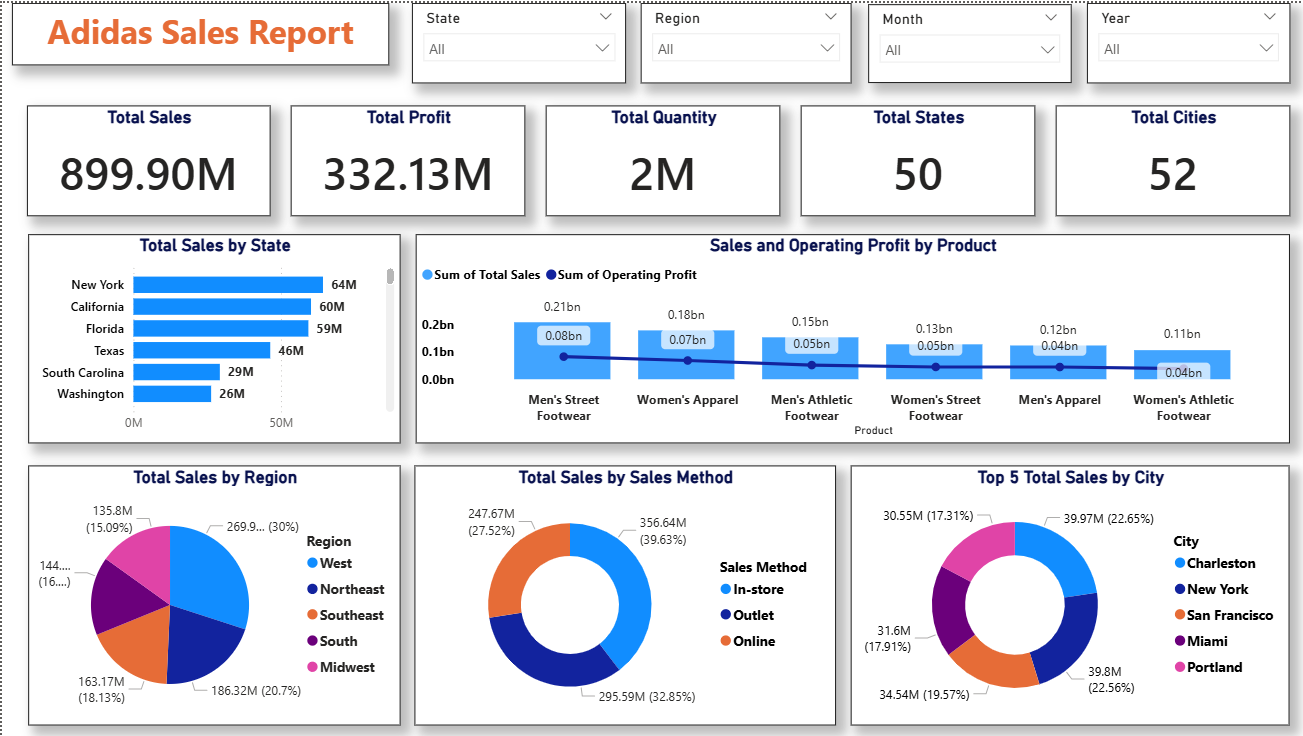

This screenshot's page, from the dashboard's own definition file:
{"tool":"powerbi","page":{"name":"Page 1","canvas":[1280,720],"ordinal":0},"visuals":[{"type":"textbox","box":[9.5,0,368.1,60.6],"z":0},{"type":"slicer","fields":{"Values":["Table1.State"]},"box":[400.1,0,209,78.4],"z":1},{"type":"slicer","fields":{"Values":["Table1.Region"]},"box":[623.4,0,205.4,78.4],"z":2},{"type":"slicer","fields":{"Values":["Table1.Invoice Date.Variation.Date Hierarchy.Month"]},"box":[845.4,1.2,198.3,77.2],"z":3},{"type":"slicer","fields":{"Values":["Table1.Invoice Date.Variation.Date Hierarchy.Year"]},"box":[1059.1,0,198.3,78.4],"z":4},{"type":"cardVisual","title":"Total Sales","fields":{"Data":["Sum(Table1.Total Sales)"]},"box":[24.9,99.7,237.5,108],"z":5},{"type":"cardVisual","title":"Total Profit","fields":{"Data":["Sum(Table1.Operating Profit)"]},"box":[282,99.7,229.2,108],"z":6},{"type":"cardVisual","title":"Total Quantity","fields":{"Data":["Sum(Table1.Units Sold)"]},"box":[530.7,99.7,229.2,108],"z":7},{"type":"cardVisual","title":"Total States","fields":{"Data":["Table1.Total States"]},"box":[779.5,99.7,229.2,108],"z":8},{"type":"cardVisual","title":"Total Cities","fields":{"Data":["Table1.Total Cities"]},"box":[1028.2,99.7,229.2,108],"z":9},{"type":"barChart","title":" Total Sales by State","fields":{"Y":["Sum(Table1.Total Sales)"],"Category":["Table1.State"]},"box":[25.2,216.1,363.8,202.9],"z":10},{"type":"lineStackedColumnComboChart","title":" Sales and Operating Profit by Product","fields":{"Y":["Sum(Table1.Total Sales)"],"Category":["Table1.Product"],"Y2":["Sum(Table1.Operating Profit)"]},"box":[403.5,216.1,852.5,202.9],"z":11},{"type":"pieChart","title":"Total Sales by Region","fields":{"Y":["Sum(Table1.Total Sales)"],"Category":["Table1.Region"]},"box":[25.2,434.7,363.8,253.4],"z":12},{"type":"donutChart","title":"Total Sales by Sales Method","fields":{"Y":["Sum(Table1.Total Sales)"],"Category":["Table1.Sales Method"]},"box":[403.5,434.7,410.7,253.4],"z":13},{"type":"donutChart","title":"Top 5 Total Sales by City","fields":{"Y":["Sum(Table1.Total Sales)","Sum(Table1.Total Sales)"],"Category":["Table1.City"]},"box":[828.5,434.7,427.5,253.4],"z":14},{"type":"textbox","box":[326.6,688,618.4,32.4],"z":15}]}

Visuals, with their boxes in screenshot pixels (x1, y1, x2, y2), scaled from the page's 1280x720 canvas onto the 1303x736 screenshot:
textbox: [10, 0, 384, 62]
slicer - Table1.State: [407, 0, 620, 80]
slicer - Table1.Region: [635, 0, 844, 80]
slicer - Table1.Invoice Date.Variation.Date Hierarchy.Month: [861, 1, 1062, 80]
slicer - Table1.Invoice Date.Variation.Date Hierarchy.Year: [1078, 0, 1280, 80]
"Total Sales" cardVisual: [25, 102, 267, 212]
"Total Profit" cardVisual: [287, 102, 520, 212]
"Total Quantity" cardVisual: [540, 102, 774, 212]
"Total States" cardVisual: [794, 102, 1027, 212]
"Total Cities" cardVisual: [1047, 102, 1280, 212]
" Total Sales by State" barChart: [26, 221, 396, 428]
" Sales and Operating Profit by Product" lineStackedColumnComboChart: [411, 221, 1279, 428]
"Total Sales by Region" pieChart: [26, 444, 396, 703]
"Total Sales by Sales Method" donutChart: [411, 444, 829, 703]
"Top 5 Total Sales by City" donutChart: [843, 444, 1279, 703]
textbox: [332, 703, 962, 735]
